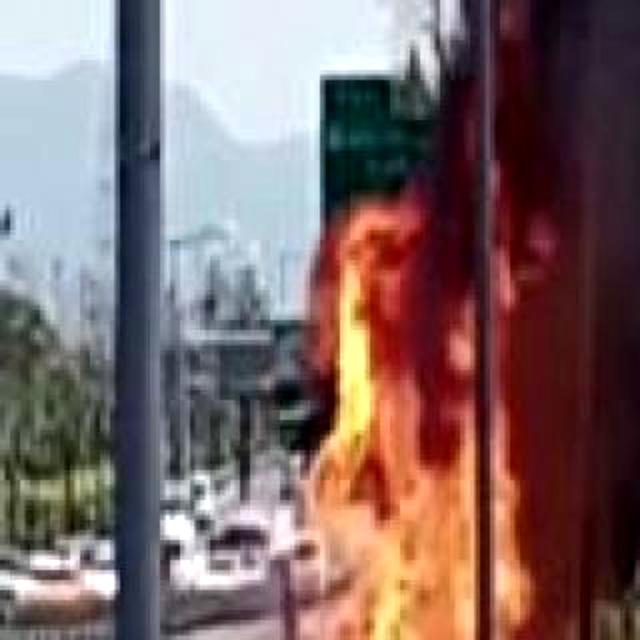fire: (300, 258, 475, 640)
smoke: (473, 0, 640, 640)
